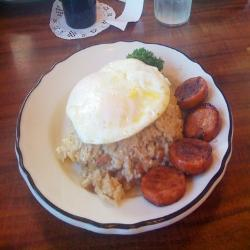omelette: (67, 57, 175, 149)
